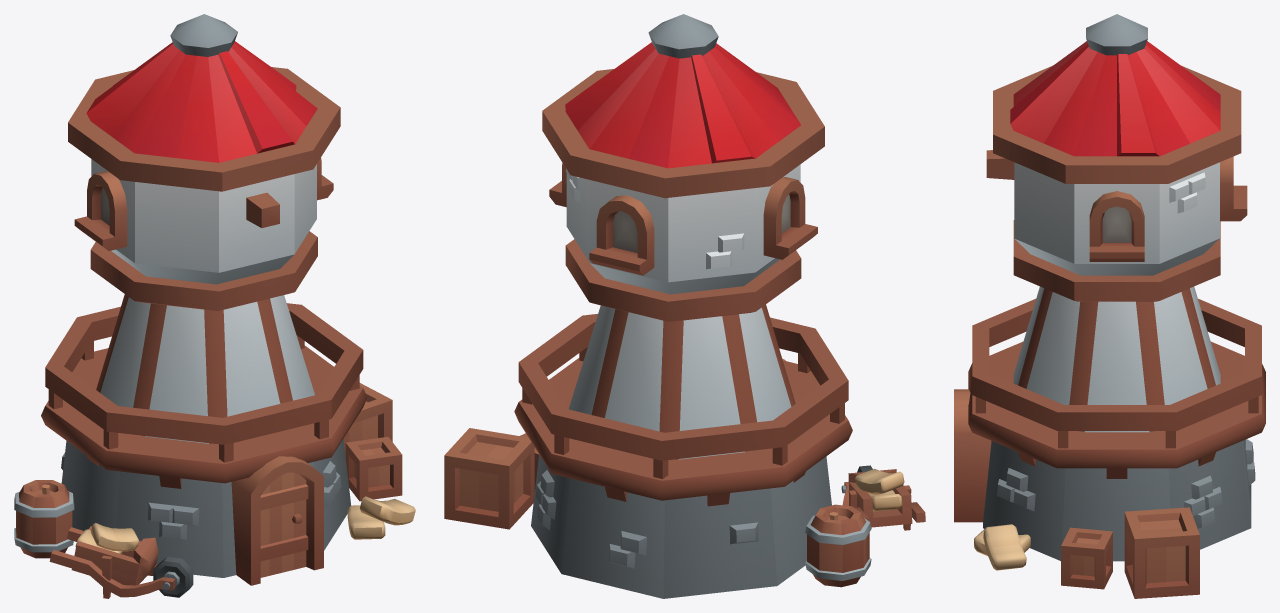
File: windmill.glb
3 views of the same model, side by side, from view 1: azimuth 30°, elevation 25°; view 2: azimuth 150°, elevation 25°; view 3: azimuth 270°, elevation 25° (orthographic). The views are drawn at different scales.
Visible parts, largest first — view 1: building_windmill_red, building_windmill_top_red; view 2: building_windmill_red, building_windmill_top_red; view 3: building_windmill_red, building_windmill_top_red.
Part boxes in pixels (x1,y1,x2,y2): building_windmill_red: [14, 294, 415, 598]; building_windmill_top_red: [68, 14, 340, 310]; building_windmill_red: [444, 304, 925, 598]; building_windmill_top_red: [542, 14, 824, 321]; building_windmill_red: [954, 286, 1265, 598]; building_windmill_top_red: [986, 14, 1247, 301].
Bounding box in the file's own units: 1.13 × 1.38 × 0.7939.
Materials: 1 (1 with a texture image).
